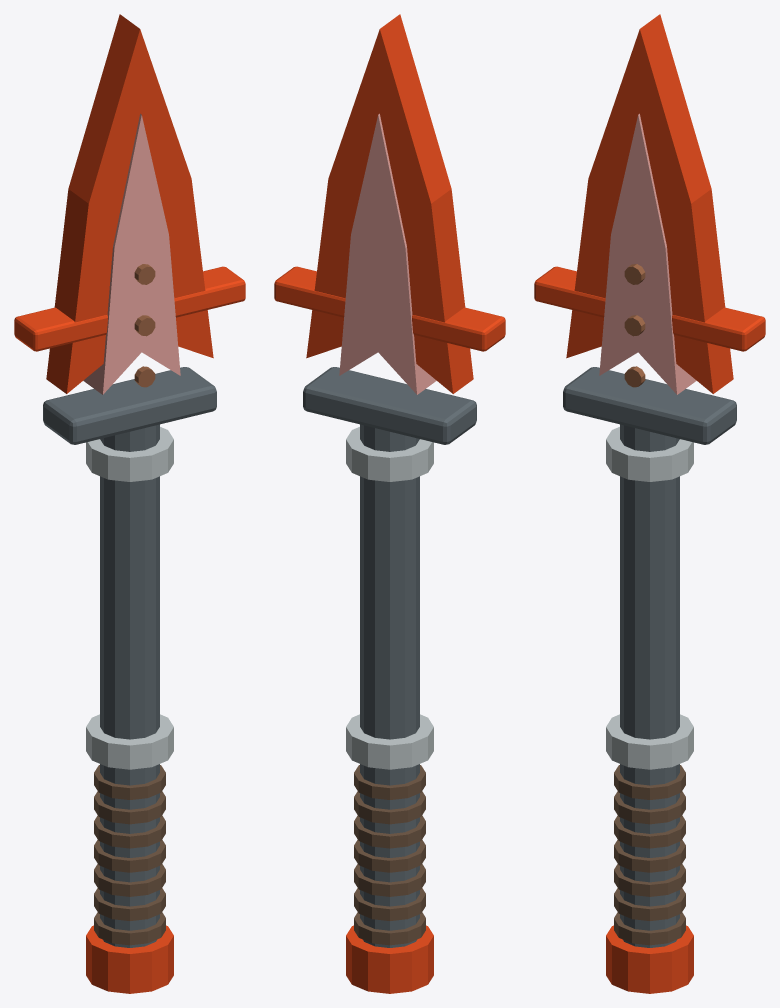
Rendered from OrbitalSpear.fbx.
The picture shows the model from 3 angles, left to right: view 1: azimuth 30°, elevation 25°; view 2: azimuth 150°, elevation 25°; view 3: azimuth 330°, elevation 25°; orthographic projection.
Visible parts, largest first — view 1: Silhouette.009, Manche.009, Noyau.009, Garde.009, Pommeau.009, Collier.018, Collier.019, Ailette.004, Ailette.005, Bande_06.009, Bande_04.009, Bande_00.009 (+4 smaller); view 2: Silhouette.009, Manche.009, Noyau.009, Garde.009, Pommeau.009, Collier.018, Collier.019, Ailette.004, Ailette.005, Bande_06.009, Bande_04.009, Bande_00.009 (+4 smaller); view 3: Silhouette.009, Manche.009, Noyau.009, Garde.009, Pommeau.009, Collier.018, Collier.019, Ailette.005, Ailette.004, Bande_06.009, Bande_04.009, Bande_00.009 (+4 smaller).
Part boxes in pixels (x1=…): Silhouette.009: x1=46, y1=14, x2=213, y2=393; Manche.009: x1=100, y1=424, x2=159, y2=947; Noyau.009: x1=83, y1=113, x2=180, y2=394; Garde.009: x1=43, y1=367, x2=216, y2=444; Pommeau.009: x1=86, y1=925, x2=173, y2=993; Collier.018: x1=86, y1=714, x2=173, y2=769; Collier.019: x1=86, y1=427, x2=173, y2=481; Ailette.004: x1=14, y1=307, x2=107, y2=351; Ailette.005: x1=174, y1=266, x2=245, y2=317; Bande_06.009: x1=94, y1=765, x2=165, y2=799; Bande_04.009: x1=94, y1=815, x2=165, y2=848; Bande_00.009: x1=94, y1=912, x2=165, y2=945; Silhouette.009: x1=306, y1=14, x2=473, y2=393; Manche.009: x1=360, y1=424, x2=419, y2=947; Noyau.009: x1=339, y1=113, x2=436, y2=394; Garde.009: x1=303, y1=367, x2=476, y2=444; Pommeau.009: x1=346, y1=925, x2=433, y2=993; Collier.018: x1=346, y1=714, x2=433, y2=769; Collier.019: x1=346, y1=427, x2=433, y2=481; Ailette.004: x1=412, y1=307, x2=505, y2=351; Ailette.005: x1=274, y1=266, x2=345, y2=317; Bande_06.009: x1=354, y1=765, x2=425, y2=799; Bande_04.009: x1=354, y1=815, x2=425, y2=848; Bande_00.009: x1=354, y1=912, x2=425, y2=945; Silhouette.009: x1=566, y1=14, x2=733, y2=393; Manche.009: x1=620, y1=424, x2=679, y2=947; Noyau.009: x1=599, y1=113, x2=696, y2=394; Garde.009: x1=563, y1=367, x2=736, y2=444; Pommeau.009: x1=606, y1=925, x2=693, y2=993; Collier.018: x1=606, y1=714, x2=693, y2=769; Collier.019: x1=606, y1=427, x2=693, y2=481; Ailette.005: x1=672, y1=307, x2=765, y2=351; Ailette.004: x1=534, y1=266, x2=605, y2=317; Bande_06.009: x1=614, y1=765, x2=685, y2=799; Bande_04.009: x1=614, y1=815, x2=685, y2=848; Bande_00.009: x1=614, y1=912, x2=685, y2=945.
Bounding box in the file's own units: 78 × 335 × 28.
